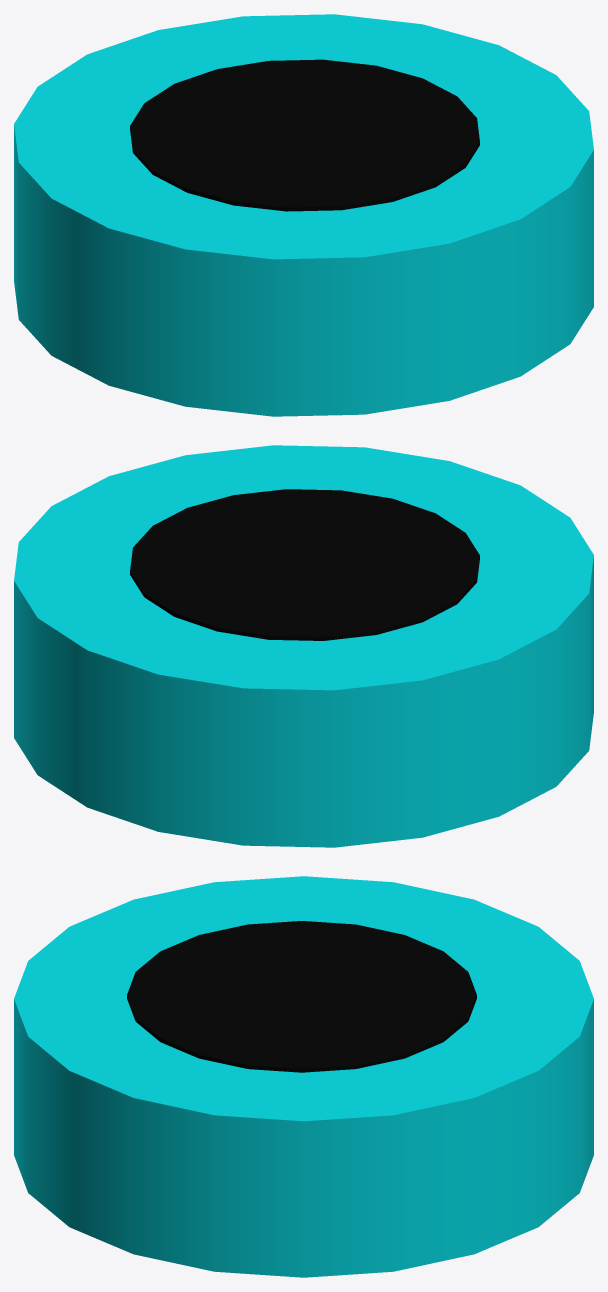
The model's file is Blue Coin P.fbx.
3 renders of one model, top to bottom at view 1: azimuth 30°, elevation 25°; view 2: azimuth 150°, elevation 25°; view 3: azimuth 270°, elevation 25°, orthographic.
Visible parts, largest first — view 1: pCylinder1, pCylinder2; view 2: pCylinder1, pCylinder2; view 3: pCylinder1, pCylinder2.
Part boxes in pixels (<box>): pCylinder1: <box>14,14,593,416</box>; pCylinder2: <box>130,59,479,211</box>; pCylinder1: <box>14,445,593,847</box>; pCylinder2: <box>130,489,479,640</box>; pCylinder1: <box>14,876,593,1277</box>; pCylinder2: <box>127,921,476,1072</box>.
Bounding box in the file's own units: 2 × 0.6103 × 2.
